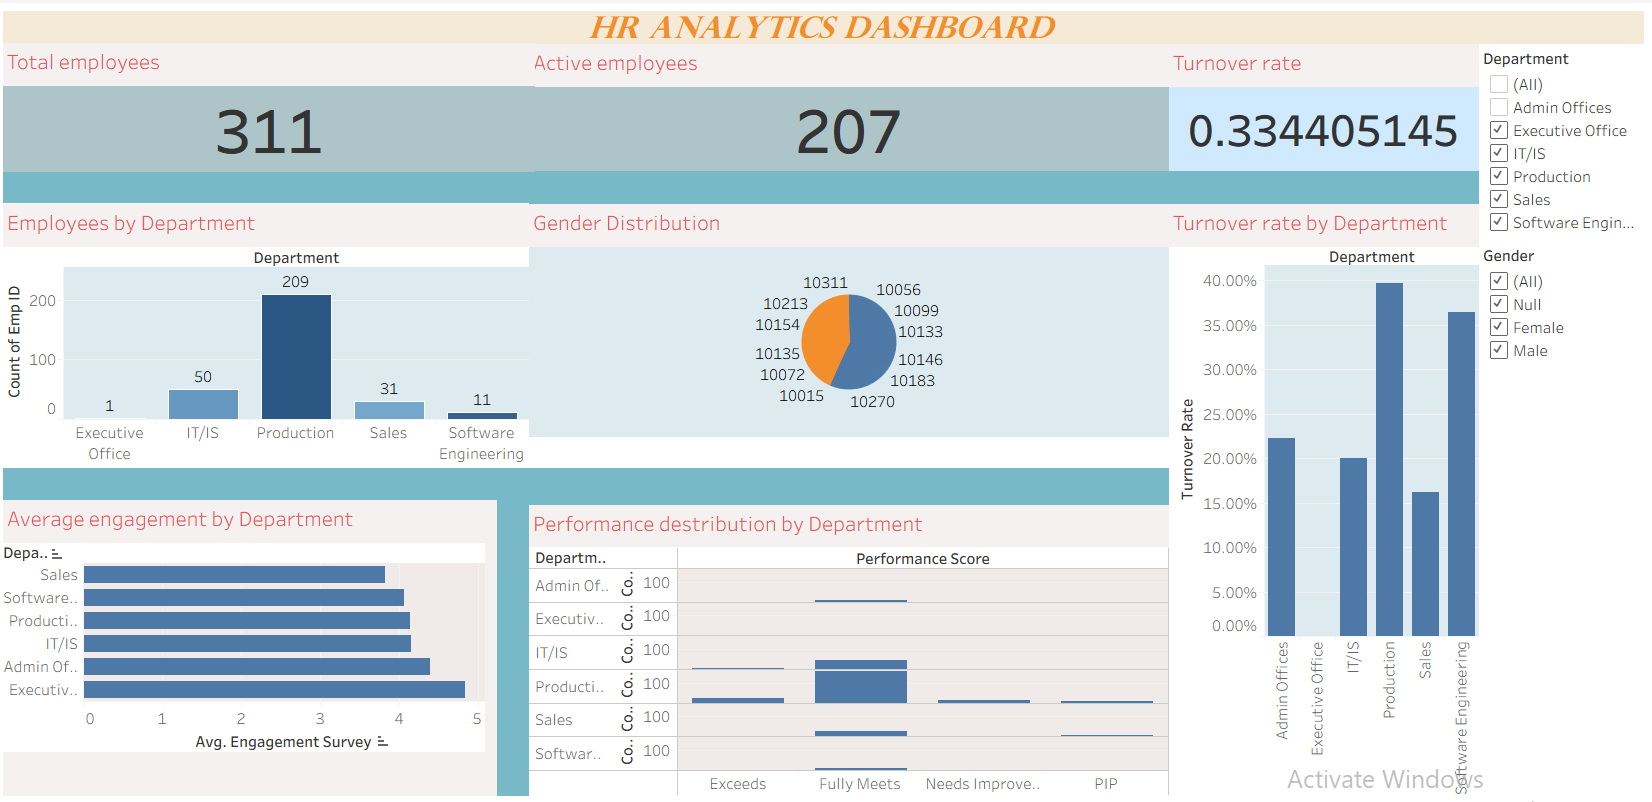

The page's visual inventory and layout, read from the dashboard file:
{"tool":"tableau","page":{"name":"HR ANALYTICS DASHBOARD","canvas":[1657,801],"ordinal":0},"visuals":[{"type":"text","box":[8,8,1641,33]},{"type":"worksheet","title":"Total employees","mark":"Text","box":[8,40,532,129]},{"type":"blank","box":[8,41,526,159]},{"type":"worksheet","title":"Active employees","mark":"Text","box":[534,41,639.6,126.8]},{"type":"worksheet","title":"Turnover rate","mark":"Text","box":[1173.6,41,310.4,127]},{"type":"filter","title":"Employees by Department","param":"[federated.1p9wonp0sbogmh11akkad1ffmnpb].[none:Department:nk]","box":[1484,41,165,197]},{"type":"blank","box":[534,167.8,639.6,32.8]},{"type":"blank","box":[1173.6,168,310.4,32.8]},{"type":"worksheet","title":"Gender Distribution","mark":"Pie","box":[534,200.6,639.6,233]},{"type":"worksheet","title":"Turnover rate by Department","mark":"Automatic","rows":["Calculation_0544025242329094"],"cols":["Department"],"box":[1173.6,200.8,310.4,592.2]},{"type":"worksheet","title":"Employees by Department","mark":"Automatic","rows":["EmpID"],"cols":["Department"],"box":[8,201,526,264.4]},{"type":"filter","title":"Gender Distribution","param":"[federated.1p9wonp0sbogmh11akkad1ffmnpb].[none:Gender:nk]","box":[1484,238,165,128]},{"type":"blank","box":[534,465.3,639.6,37]},{"type":"blank","box":[8,465.4,526,32]},{"type":"worksheet","title":"Average engagement by Department","mark":"Automatic","rows":["Department"],"cols":["EngagementSurvey"],"box":[8,497.4,494,295.6]},{"type":"blank","box":[502,497.4,32,295.6]},{"type":"worksheet","title":"Performance destribution by Department","mark":"Automatic","rows":["Department","EmpID"],"cols":["PerformanceScore"],"box":[534,502.3,639.6,290.7]}]}

Visuals, with their boxes on the page's 1657x801 design canvas (x1, y1, x2, y2). These are canvas units, not pixel positions in the 1652x802 screenshot, which may show the page scaled, cropped or inside an application window:
text: <region>8, 8, 1649, 41</region>
"Total employees" worksheet (Text marks): <region>8, 40, 540, 169</region>
blank: <region>8, 41, 534, 200</region>
"Active employees" worksheet (Text marks): <region>534, 41, 1174, 168</region>
"Turnover rate" worksheet (Text marks): <region>1174, 41, 1484, 168</region>
"Employees by Department" filter: <region>1484, 41, 1649, 238</region>
blank: <region>534, 168, 1174, 201</region>
blank: <region>1174, 168, 1484, 201</region>
"Gender Distribution" worksheet (Pie marks): <region>534, 201, 1174, 434</region>
"Turnover rate by Department" worksheet: <region>1174, 201, 1484, 793</region>
"Employees by Department" worksheet: <region>8, 201, 534, 465</region>
"Gender Distribution" filter: <region>1484, 238, 1649, 366</region>
blank: <region>534, 465, 1174, 502</region>
blank: <region>8, 465, 534, 497</region>
"Average engagement by Department" worksheet: <region>8, 497, 502, 793</region>
blank: <region>502, 497, 534, 793</region>
"Performance destribution by Department" worksheet: <region>534, 502, 1174, 793</region>
